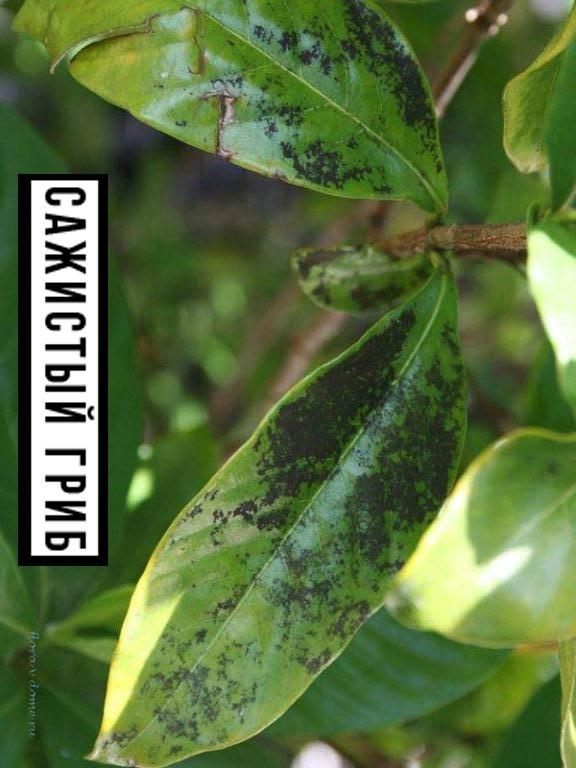soot dew: (235, 305, 463, 675), (261, 0, 444, 169), (132, 626, 258, 752), (283, 144, 393, 199)
